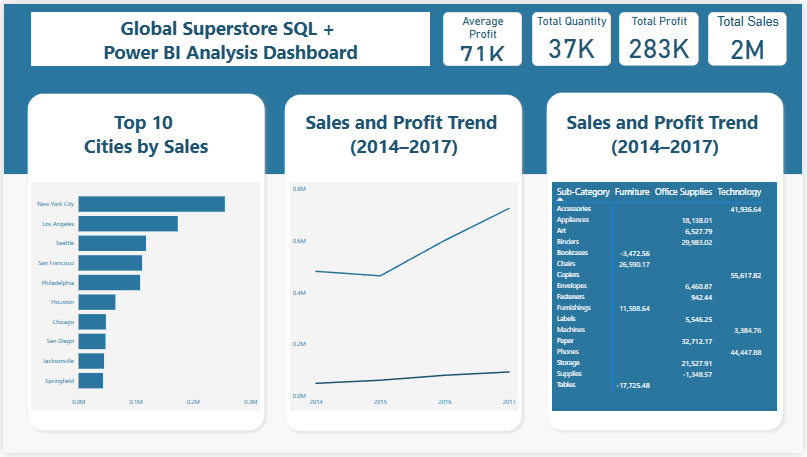

Layout of this report page (visuals, bound fields, positions):
{"tool":"powerbi","page":{"name":"Page 1","canvas":[1600,900],"ordinal":0},"visuals":[{"type":"shape","box":[0,0,1600,344.4],"z":0},{"type":"shape","box":[40,172.5,492.5,692.5],"z":1000},{"type":"card","title":"Total Sales","fields":{"Values":["Sum(yearly_sales.yearly_sales)"]},"box":[1409.3,18.5,157.4,107.4],"z":2000},{"type":"card","title":"Total Profit","fields":{"Values":["Sum(yearly_sales.yearly_profit)"]},"box":[1231.5,18.5,159.3,107.4],"z":3000},{"type":"card","title":"Total Quantity","fields":{"Values":["Sum(summary_kpi.total_quantity)"]},"box":[1057.5,17.5,157.5,107.5],"z":4000},{"type":"card","title":"Average Profit","fields":{"Values":["Avg(yearly_sales.yearly_profit)"]},"box":[880,17.5,157.5,107.5],"z":5000},{"type":"shape","box":[553.3,173.3,493.3,691.7],"z":6000},{"type":"shape","box":[1078,170,492,694],"z":7000},{"type":"lineChart","fields":{"Y":["Sum(yearly_sales.yearly_sales)","Sum(yearly_sales.yearly_profit)"],"Category":["yearly_sales.order_year"]},"box":[574,358,456,458],"z":8000},{"type":"textbox","box":[592,206,420,114],"z":9000},{"type":"barChart","fields":{"Y":["Sum(top_cities.total_sales)"],"Category":["top_cities.city"]},"box":[56,358,458,458],"z":10000},{"type":"pivotTable","fields":{"Values":["Sum(category_profit.total_profit)"],"Columns":["category_profit.category"],"Rows":["category_profit.Sub-Category"]},"box":[1098,358,450,458],"z":11000},{"type":"textbox","box":[76,206,420,138],"z":12000},{"type":"textbox","box":[1114,206,420,114],"z":13000},{"type":"textbox","box":[56,18,798,108],"z":13001}]}

Visuals, with their boxes in screenshot pixels (x1, y1, x2, y2), scaled from the page's 1600x900 canvas onto the 807x457 screenshot:
shape: [0, 0, 806, 175]
shape: [20, 88, 269, 439]
"Total Sales" card: [711, 9, 790, 64]
"Total Profit" card: [621, 9, 701, 64]
"Total Quantity" card: [533, 9, 613, 63]
"Average Profit" card: [444, 9, 523, 63]
shape: [279, 88, 528, 439]
shape: [544, 86, 792, 439]
lineChart - Sum(yearly_sales.yearly_sales) x Sum(yearly_sales.yearly_profit): [290, 182, 520, 414]
textbox: [299, 105, 510, 162]
barChart - Sum(top_cities.total_sales) x top_cities.city: [28, 182, 259, 414]
pivotTable - Sum(category_profit.total_profit) x category_profit.category: [554, 182, 781, 414]
textbox: [38, 105, 250, 175]
textbox: [562, 105, 774, 162]
textbox: [28, 9, 431, 64]
